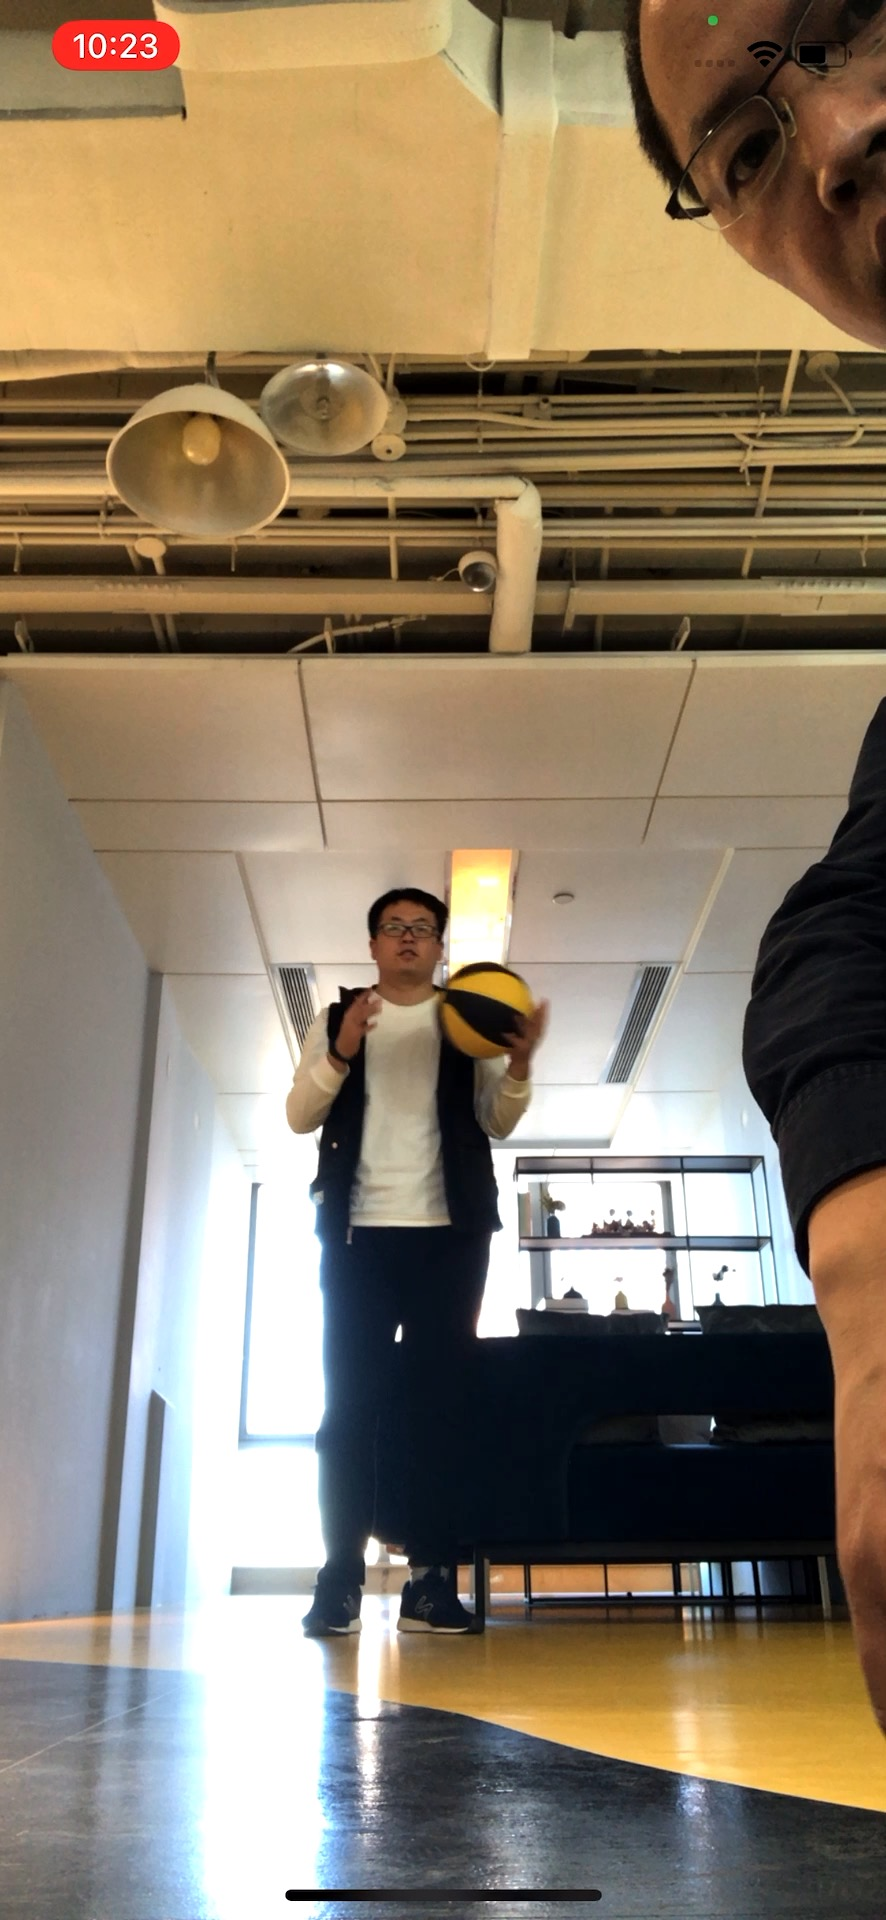ball: (434, 961, 535, 1059)
